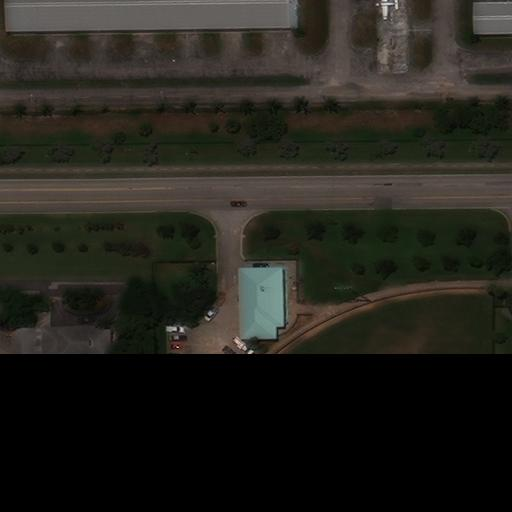Small Civil Transport: (374, 0, 399, 20)
